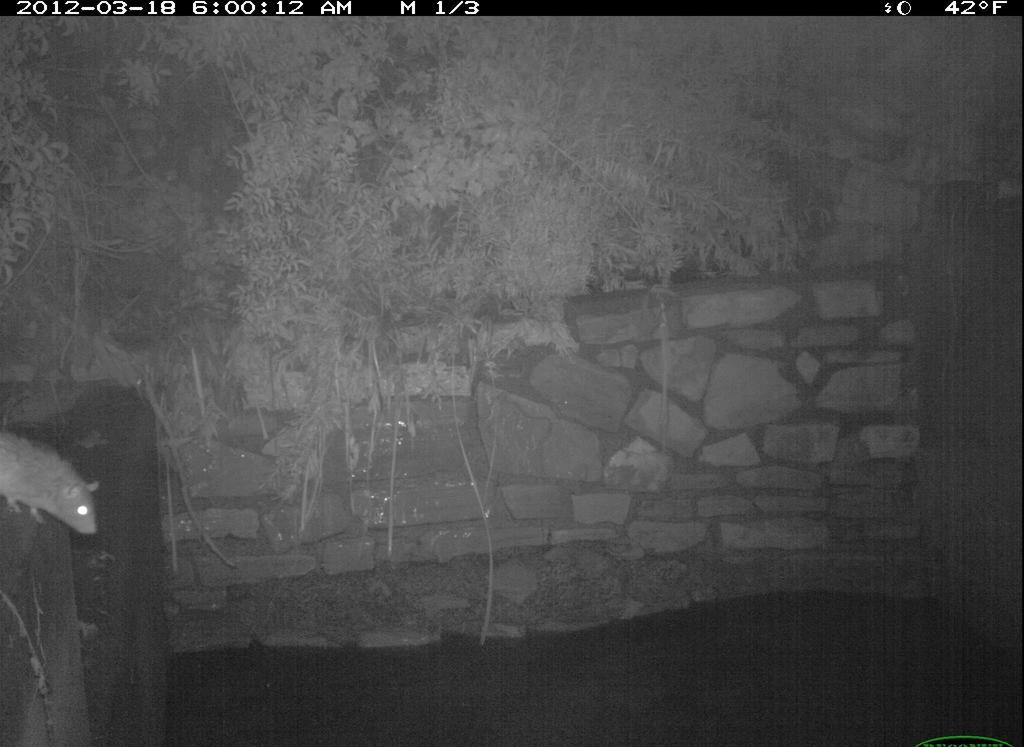rodent: (2, 420, 107, 569)
